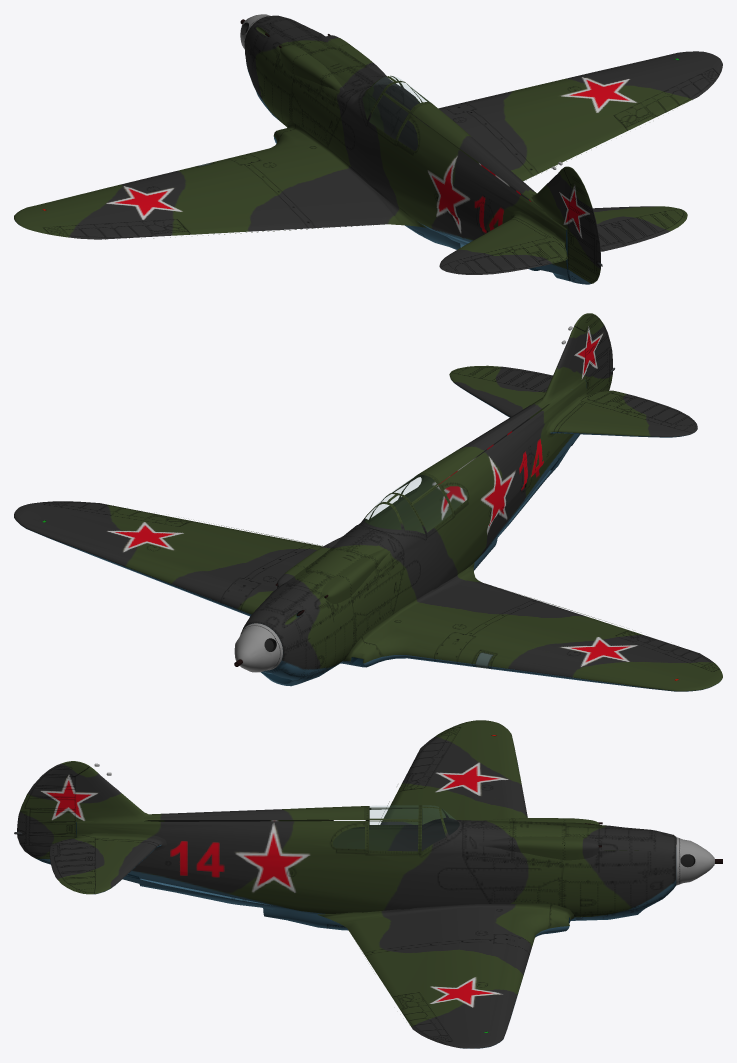
The model's file is lagg3LOD0.glb.
The picture shows the model from 3 angles, top to bottom: view 1: azimuth 30°, elevation 25°; view 2: azimuth 150°, elevation 25°; view 3: azimuth 270°, elevation 25°; orthographic projection. The views are drawn at different scales.
Visible parts, largest first — view 1: Line_R02-FACES.001; view 2: Line_R02-FACES.001; view 3: Line_R02-FACES.001.
Part boxes in pixels (x1,y1,x2,y2): Line_R02-FACES.001: (14, 14, 722, 284); Line_R02-FACES.001: (14, 313, 722, 691); Line_R02-FACES.001: (14, 720, 722, 1048).
Bounding box in the file's own units: 29.7 × 7.04 × 27.1.
Materials: 21 (12 with a texture image).
